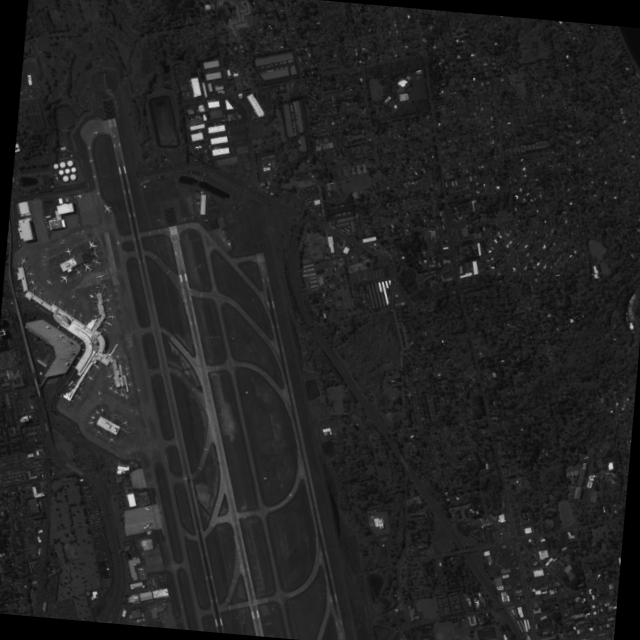plane: (78, 258, 95, 273), (84, 235, 99, 250), (99, 201, 114, 214), (87, 246, 102, 258), (61, 243, 74, 256), (93, 269, 107, 281), (89, 255, 103, 267), (70, 265, 84, 277), (56, 272, 70, 284), (17, 253, 29, 265), (140, 519, 153, 530), (43, 276, 54, 286), (102, 317, 113, 327), (91, 361, 101, 370), (142, 503, 151, 512), (99, 280, 108, 289), (81, 377, 90, 386), (106, 311, 116, 319), (29, 283, 38, 291), (68, 291, 77, 299), (74, 392, 83, 400), (25, 268, 34, 276), (85, 290, 94, 298), (85, 372, 93, 381), (106, 435, 114, 443), (116, 389, 124, 397), (110, 387, 118, 395), (105, 383, 113, 391), (90, 128, 99, 135), (74, 191, 83, 198), (103, 295, 112, 302), (55, 297, 63, 304), (35, 288, 43, 295), (94, 428, 102, 435), (120, 418, 128, 425), (85, 418, 93, 425), (92, 407, 100, 414), (109, 130, 116, 137), (88, 285, 95, 292), (86, 156, 93, 163), (27, 276, 34, 283), (122, 392, 129, 399), (87, 413, 95, 419), (94, 389, 102, 395), (181, 473, 187, 480), (286, 490, 293, 496), (76, 311, 83, 317), (70, 305, 76, 312), (224, 239, 231, 245), (87, 298, 94, 304), (85, 143, 91, 150), (104, 372, 111, 378), (100, 325, 107, 331), (98, 405, 104, 411), (114, 239, 120, 245), (94, 189, 100, 195), (90, 172, 96, 178), (137, 565, 143, 570), (94, 283, 100, 288), (91, 312, 97, 317), (105, 305, 111, 310), (135, 386, 140, 392), (126, 380, 131, 386), (122, 364, 128, 369), (113, 353, 119, 358), (124, 370, 129, 375), (292, 483, 296, 487)
storage-tank: (65, 158, 72, 165), (68, 172, 75, 179), (61, 173, 67, 181), (58, 160, 64, 167), (69, 165, 76, 171), (51, 162, 57, 168), (57, 168, 63, 174), (63, 167, 69, 172), (84, 589, 89, 594)
